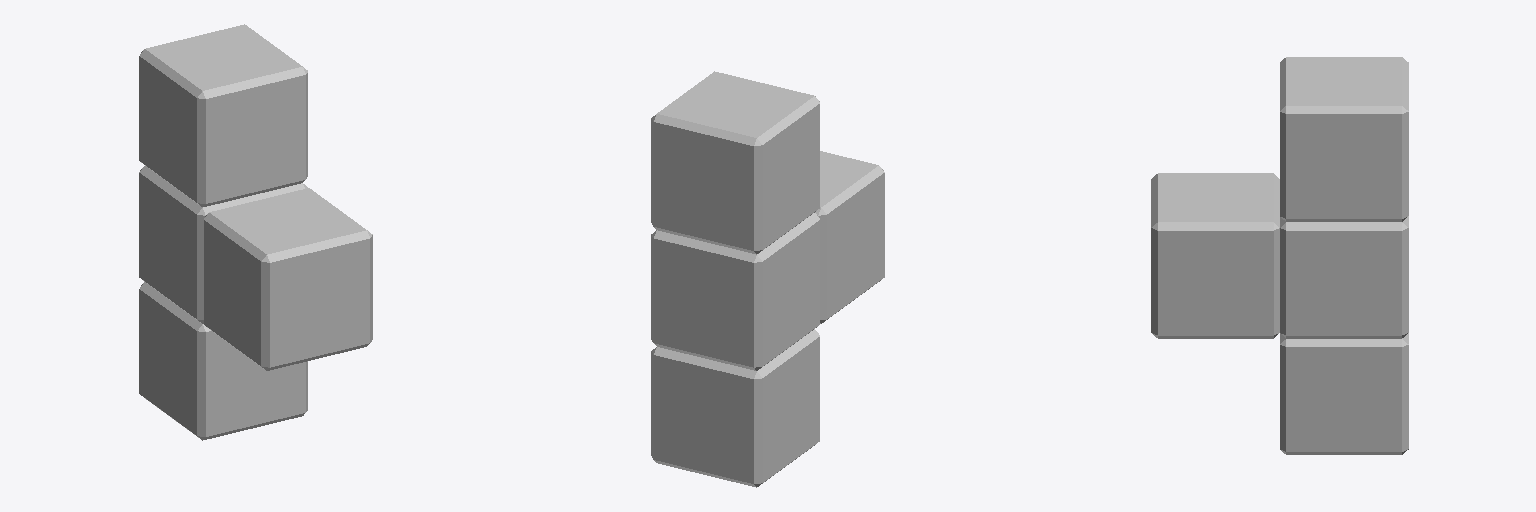
Rendered from fig4.obj.
The picture shows the model from 3 angles: view 1: azimuth 30°, elevation 25°; view 2: azimuth 150°, elevation 25°; view 3: azimuth 270°, elevation 25°; orthographic projection.
Visible parts, largest first — view 1: Cube.003, Cube.002, Cube, Cube.001; view 2: Cube.002, Cube.001, Cube, Cube.003; view 3: Cube.003, Cube.002, Cube.001, Cube.
Part boxes in pixels (left/top/right/bottom): Cube.003: left=204, top=188, right=372, bottom=370; Cube.002: left=139, top=24, right=307, bottom=206; Cube: left=139, top=282, right=307, bottom=440; Cube.001: left=139, top=166, right=307, bottom=323; Cube.002: left=651, top=71, right=819, bottom=254; Cube.001: left=651, top=213, right=819, bottom=370; Cube: left=651, top=329, right=819, bottom=487; Cube.003: left=815, top=151, right=884, bottom=323; Cube.003: left=1151, top=173, right=1279, bottom=338; Cube.002: left=1280, top=57, right=1408, bottom=221; Cube.001: left=1280, top=216, right=1408, bottom=338; Cube: left=1280, top=333, right=1408, bottom=454.
Size of the model in its own units: 2 by 6 by 4.